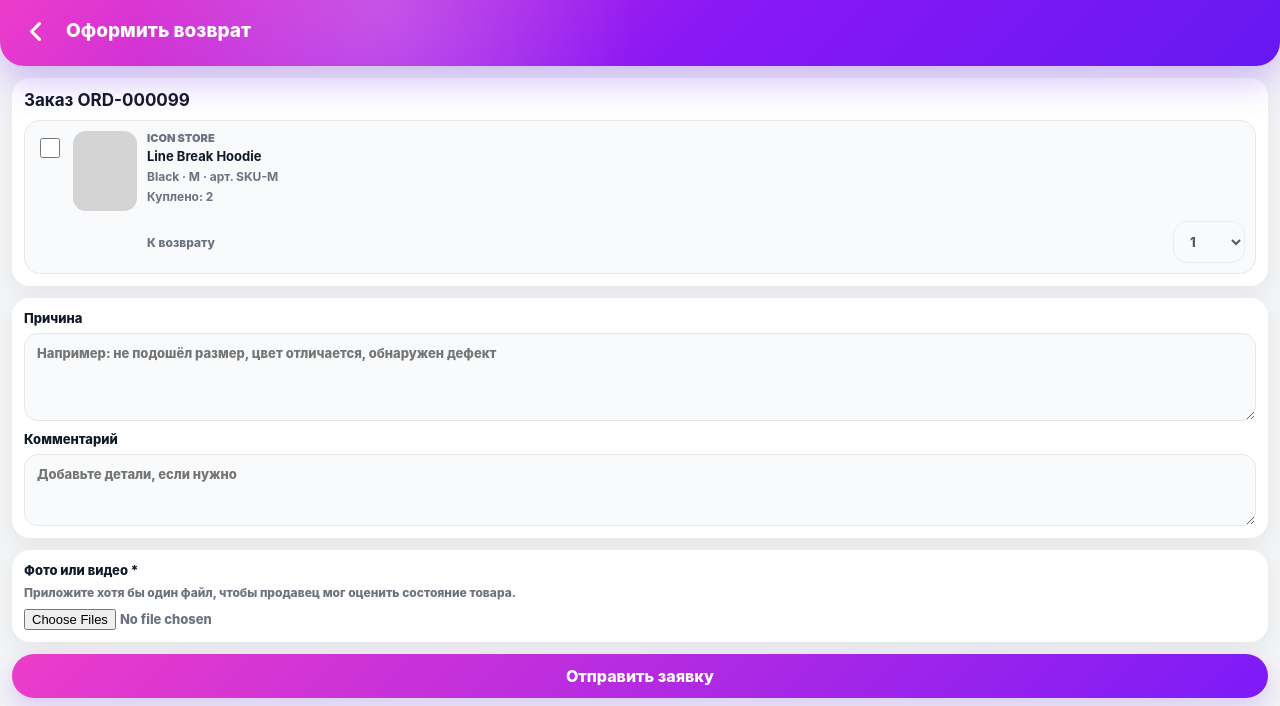
Test case: ReturnRequestPage › blocks submit when no items are selected
Expected: the text "Line Break Hoodie" is shown, top-left (147, 148), bottom-right (262, 164)
Replace the text in the text box with placeholder "Например: не подошёл размер, цвет отличается, обнаружен дефект" with "Не подошёл размер" at (640, 377), box top-left (24, 333), bottom-right (1256, 421)
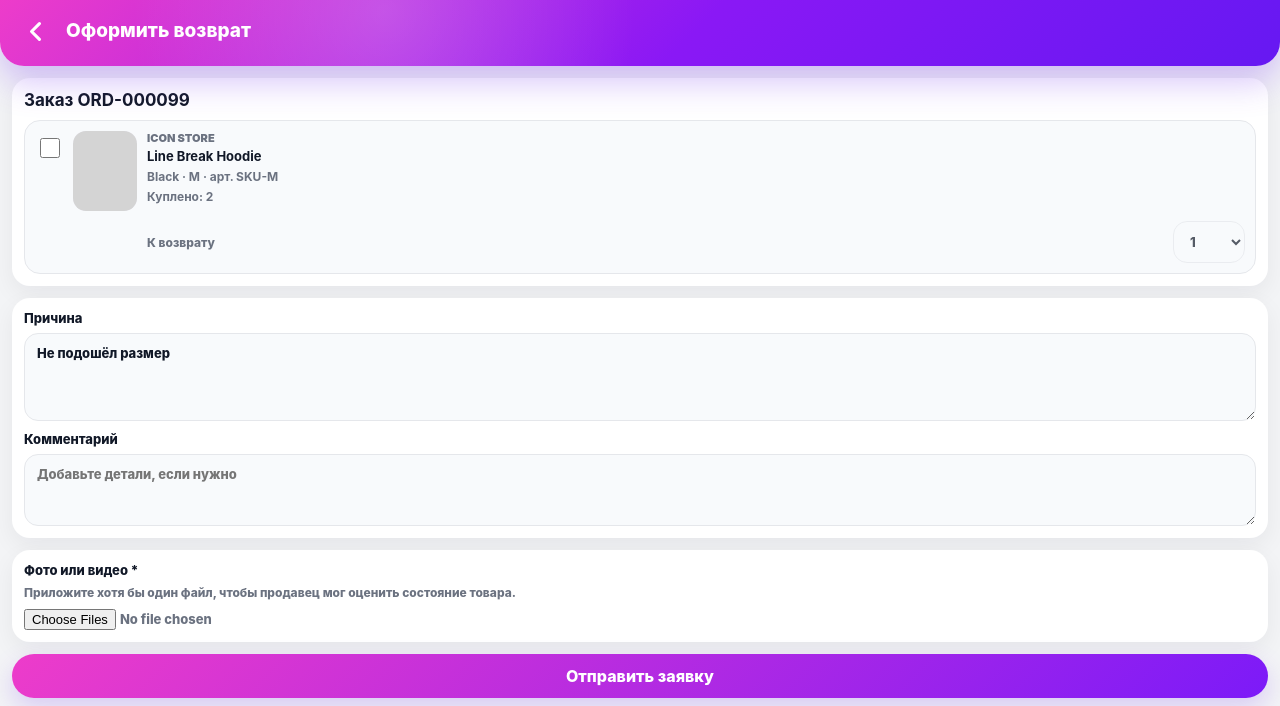
Click the button "Отправить заявку" at (640, 676), box top-left (12, 654), bottom-right (1268, 698)
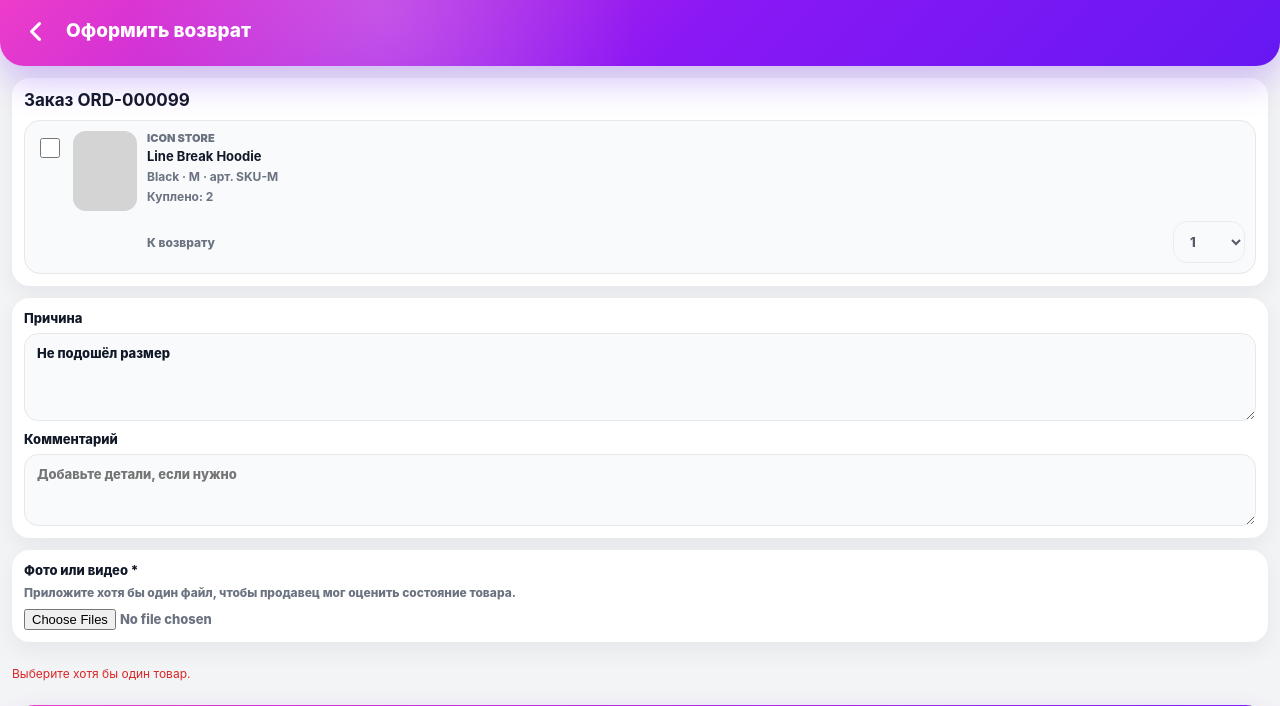
Expected: the text "Выберите хотя бы один товар." is shown, top-left (12, 666), bottom-right (190, 681)
